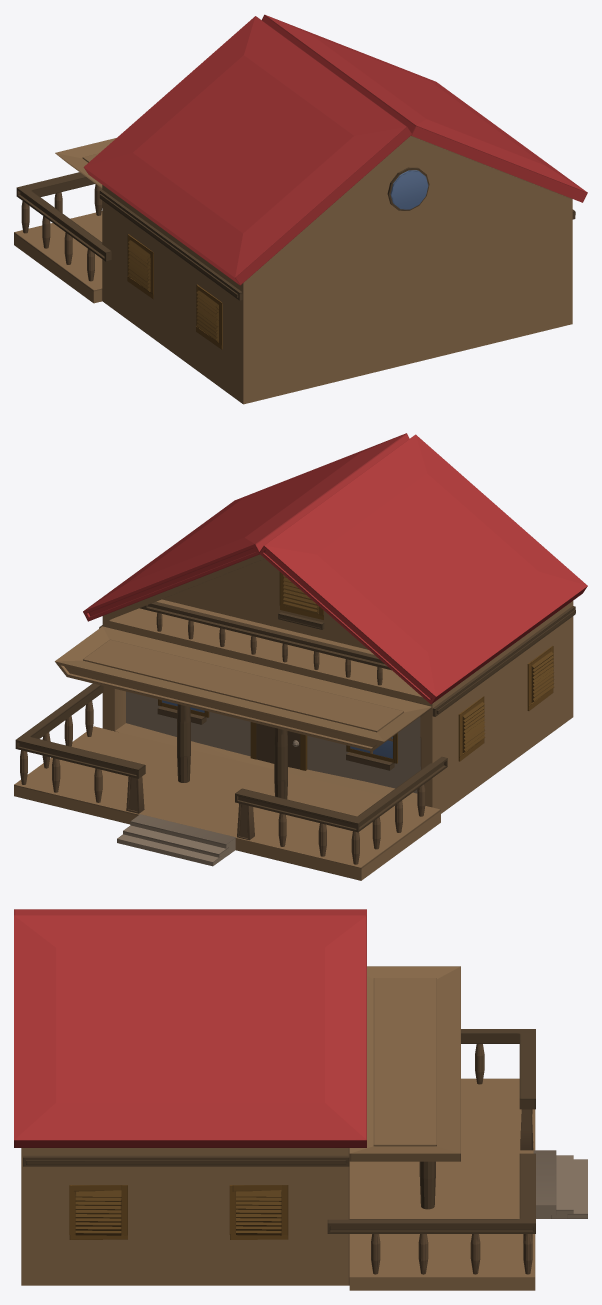
The model's file is CUPIC_CHALET.obj.
The picture shows the model from 3 angles, top to bottom: view 1: azimuth 30°, elevation 25°; view 2: azimuth 150°, elevation 25°; view 3: azimuth 270°, elevation 25°; orthographic projection. The views are drawn at different scales.
Bounding box in the file's own units: 735 × 487 × 889.
1 material, 1 textured.
